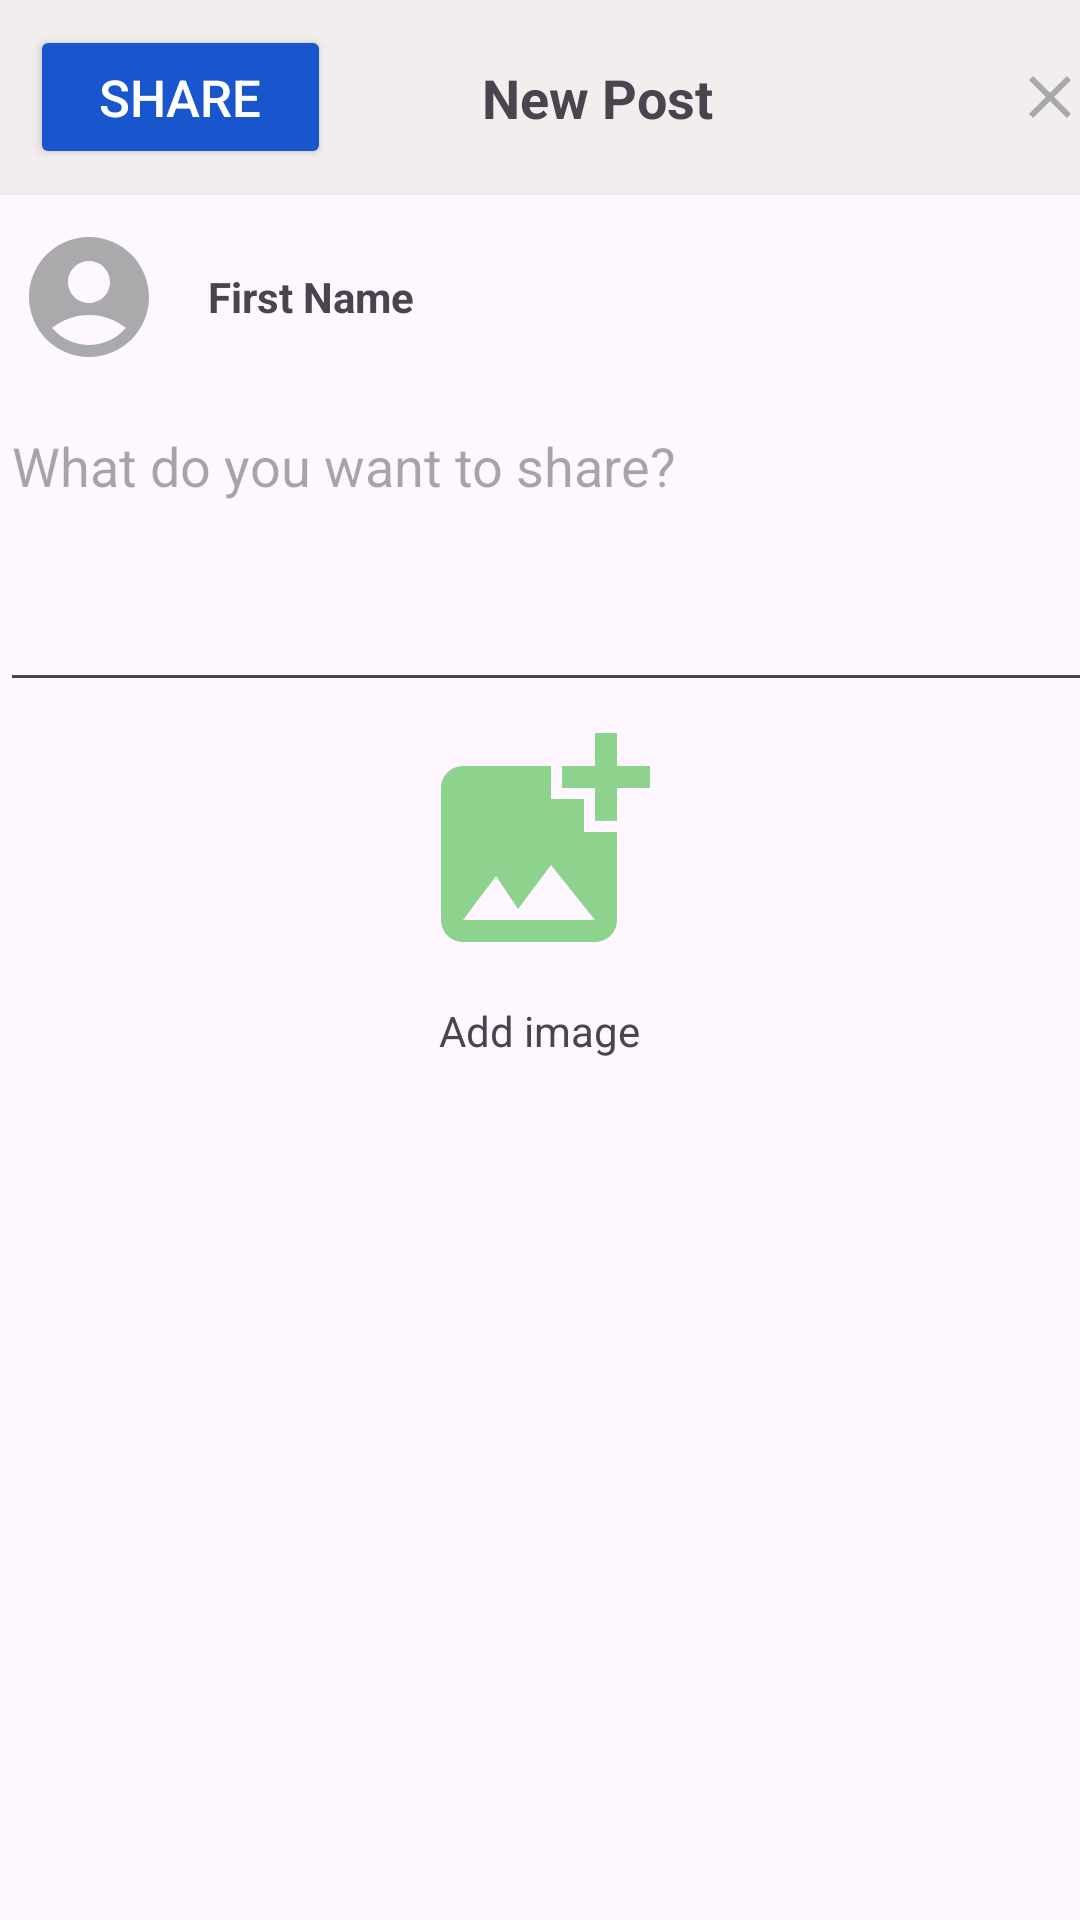

Screen size 1080 x 1920. Icon name, then its box in pixels as box=[x1, y1, x2, y2]:
user profile image: box=[29, 237, 149, 357]
